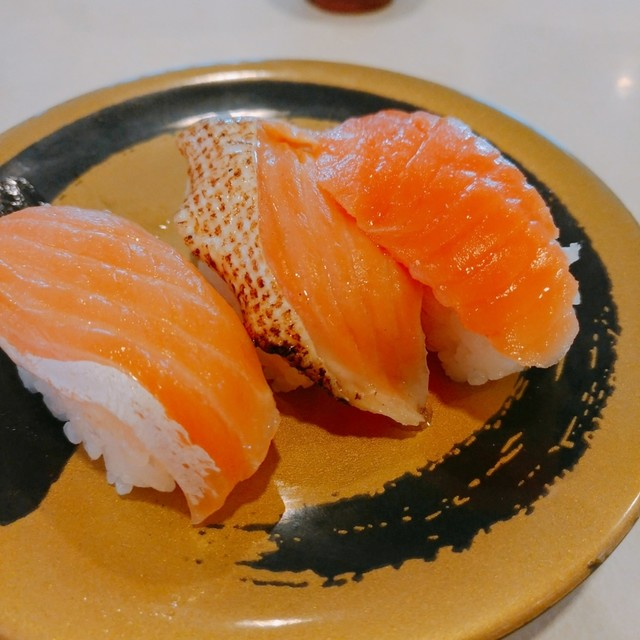salmon: (7, 187, 276, 518)
